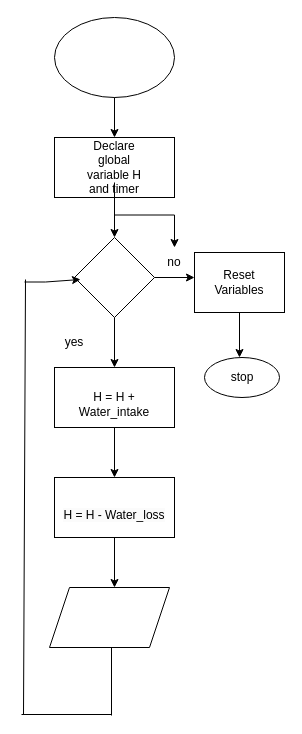
The diagram is 302 pixels wide and 734 high, and some of its shapes have lost their labels. The centre of each missing label's shape, as x and y in pixels:
"print H (on 1-10 scale)" goes at (x=109, y=617).
"start" goes at (x=114, y=57).
"while timer >0" goes at (x=114, y=277).
